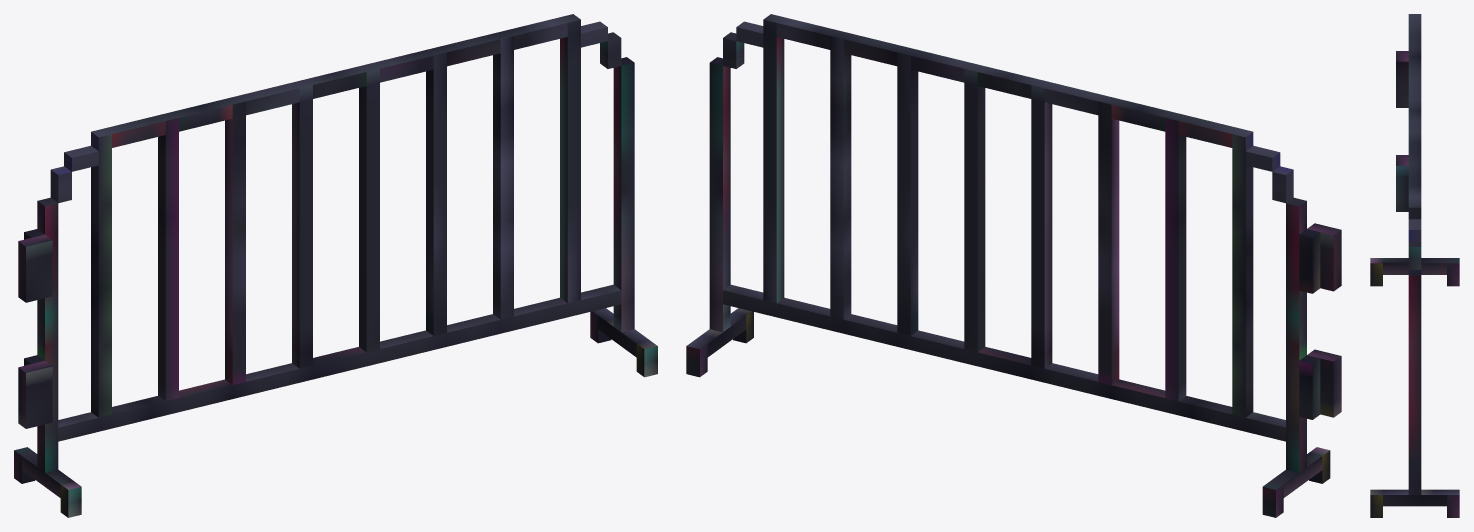
Rendered from Fence_A_00.fbx.
3 views of the same model, side by side, from view 1: azimuth 30°, elevation 25°; view 2: azimuth 150°, elevation 25°; view 3: azimuth 270°, elevation 25° (orthographic). The views are drawn at different scales.
Visible parts, largest first — view 1: Fence_A_00; view 2: Fence_A_00; view 3: Fence_A_00.
Boxes of the visible parts, x1,y1,x2,y2 form: Fence_A_00: (14,14,657,517); Fence_A_00: (686,14,1341,517); Fence_A_00: (1370,14,1459,517).
Bounding box in the file's own units: 230 × 125 × 35.
